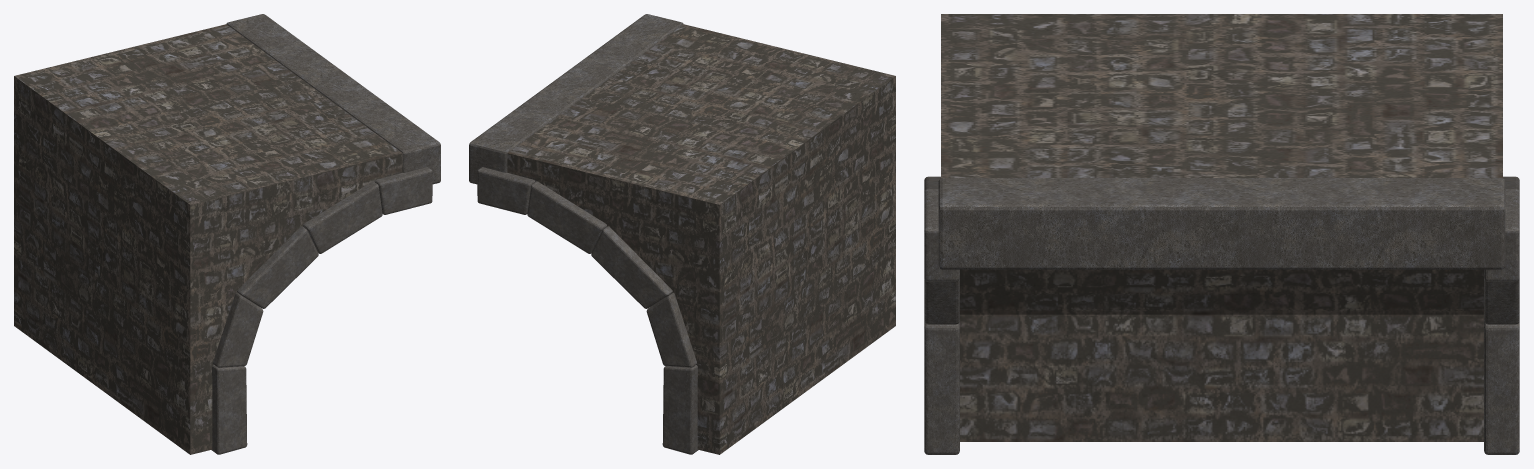
The model's file is StoneSupport.fbx.
3 renders of one model, left to right at view 1: azimuth 30°, elevation 25°; view 2: azimuth 150°, elevation 25°; view 3: azimuth 270°, elevation 25°, orthographic. The views are drawn at different scales.
Parts seen in each view (by area): view 1: Stone Support; view 2: Stone Support; view 3: Stone Support.
Boxes of the visible parts, left/top/right/bottom form: Stone Support: left=14, top=14, right=440, bottom=454; Stone Support: left=469, top=14, right=895, bottom=454; Stone Support: left=924, top=14, right=1519, bottom=454.
Size of the model in its own units: 226 by 219 by 291.
